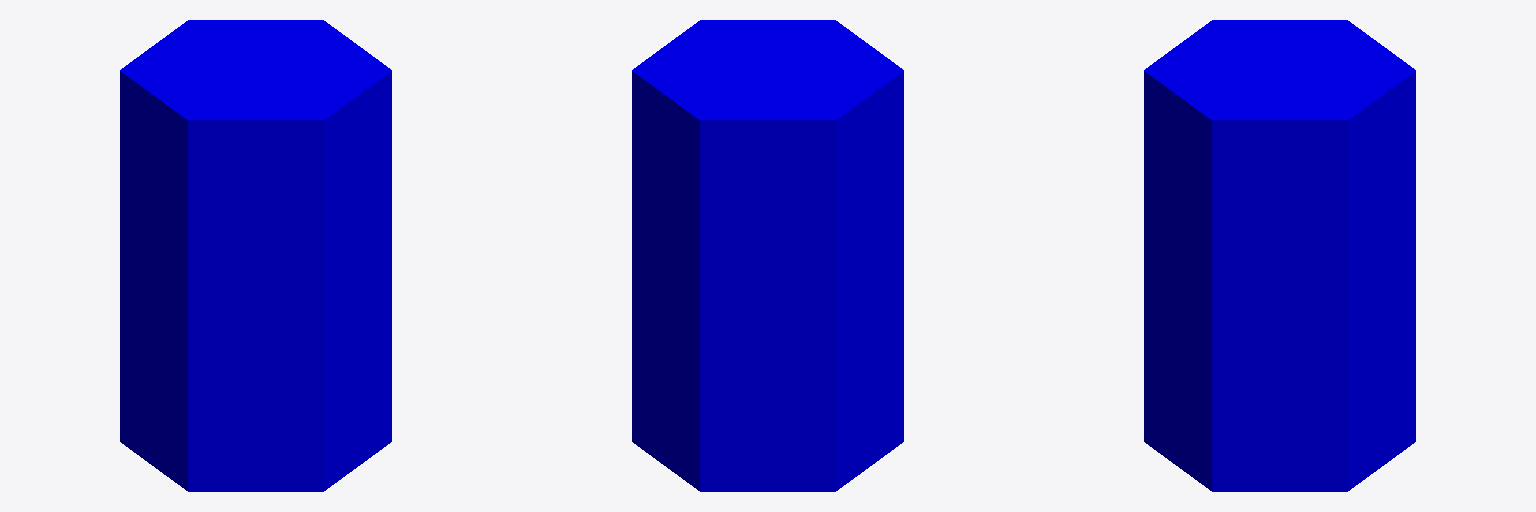
The robot description file, URDF, robot "building":
<?xml version="1.0" ?>

<robot name="building">

  <link name="base_link"> 

    <inertial>
      <origin rpy="0 0 0" xyz="0 0 0"/>
      <mass value="0.3"/>
      <inertia ixx="0" ixy="0.0" ixz="0.0" iyy="0" iyz="0.0" izz="0"/>
    </inertial>

    <visual>
      <origin rpy="0 0 0" xyz="0 0 0"/>
      <geometry>
        <mesh filename="./hexa_50_150.obj" scale="1. 1. 1."/>
      </geometry> 
      <material name="blue">
        <color rgba="0. 0. 1. 0.7"/>
      </material> 
    </visual>

    <collision>
      <origin rpy="0 0 0" xyz="0 0 0"/>
      <geometry>
        <mesh filename="./hexa_50_150.obj" scale="1. 1. 1."/>
      </geometry>
    </collision>  

  </link>

</robot>

--- Render facts (derived) ---
Views: 3 orthographic renders of the robot side by side, from view 1: azimuth 30°, elevation 25°; view 2: azimuth 150°, elevation 25°; view 3: azimuth 270°, elevation 25°.
Robot: building — 1 links, 0 joints (none); root link base_link; default pose: all joints at 0.
Links seen in each view (by area): view 1: base_link; view 2: base_link; view 3: base_link.
Link boxes in pixels (x1,y1,x2,y2): base_link: (120, 20, 391, 491); base_link: (632, 20, 903, 491); base_link: (1144, 20, 1415, 491).
Bounding box of the posed robot: 0.866 × 1 × 1.5 m (x, y, z).
1 mesh visuals loaded from 1 distinct referenced files (1 OBJ).